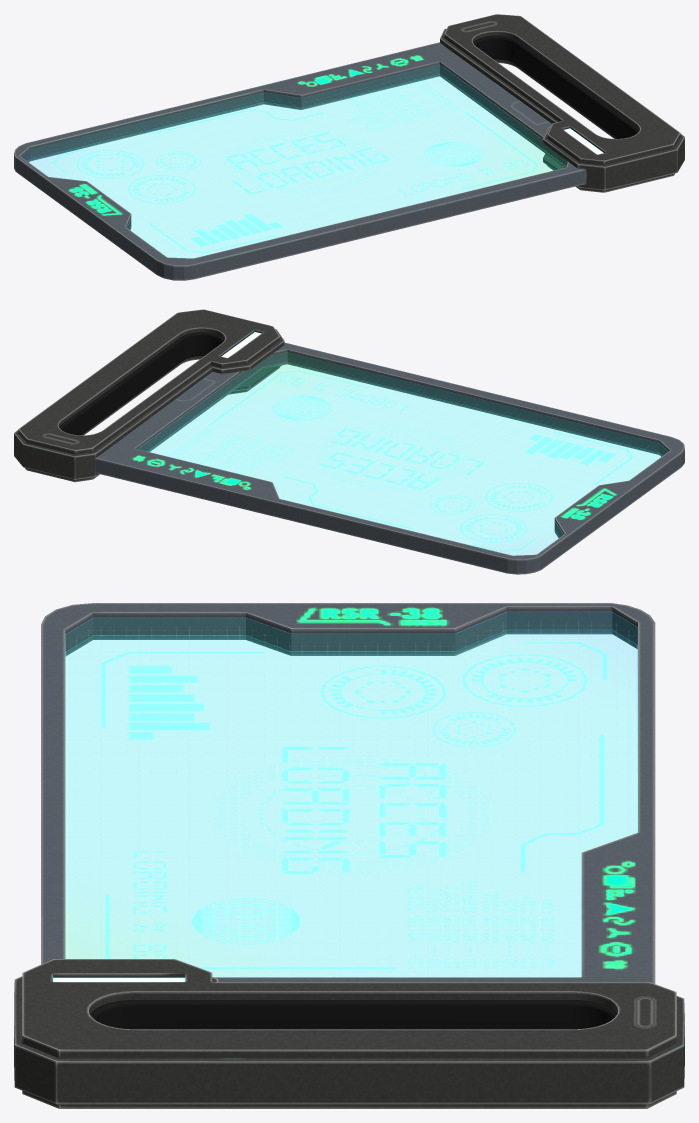
File: tablet.glb
The picture shows the model from 3 angles, top to bottom: view 1: azimuth 30°, elevation 25°; view 2: azimuth 150°, elevation 25°; view 3: azimuth 270°, elevation 25°; orthographic projection. The views are drawn at different scales.
Parts seen in each view (by area): view 1: Tablet_low, Screen_low; view 2: Tablet_low, Screen_low; view 3: Tablet_low, Screen_low.
Boxes of the visible parts, x1,y1,x2,y2 form: Tablet_low: (14, 14, 684, 280); Screen_low: (52, 81, 538, 253); Tablet_low: (14, 309, 684, 574); Screen_low: (167, 370, 633, 551); Tablet_low: (14, 603, 684, 1108); Screen_low: (100, 641, 607, 969).
Size of the model in its own units: 0.7689 by 0.0449 by 0.4674.
Materials: 2 (2 with a texture image).
